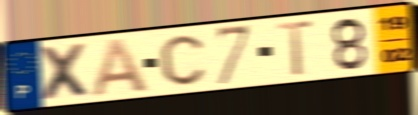7: (215, 23, 255, 88)
8: (329, 16, 369, 71)
A: (89, 36, 152, 99)
C: (157, 33, 207, 87)
T: (274, 18, 316, 78)
X: (37, 41, 96, 103)
